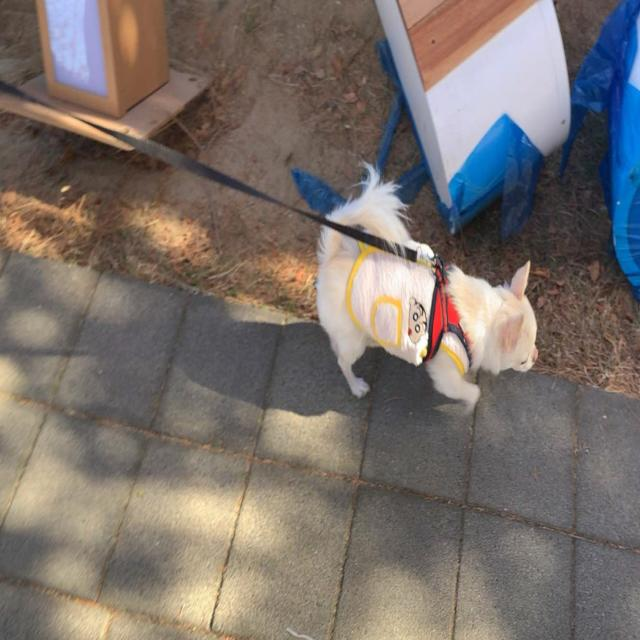Dog: (316, 157, 539, 416)
